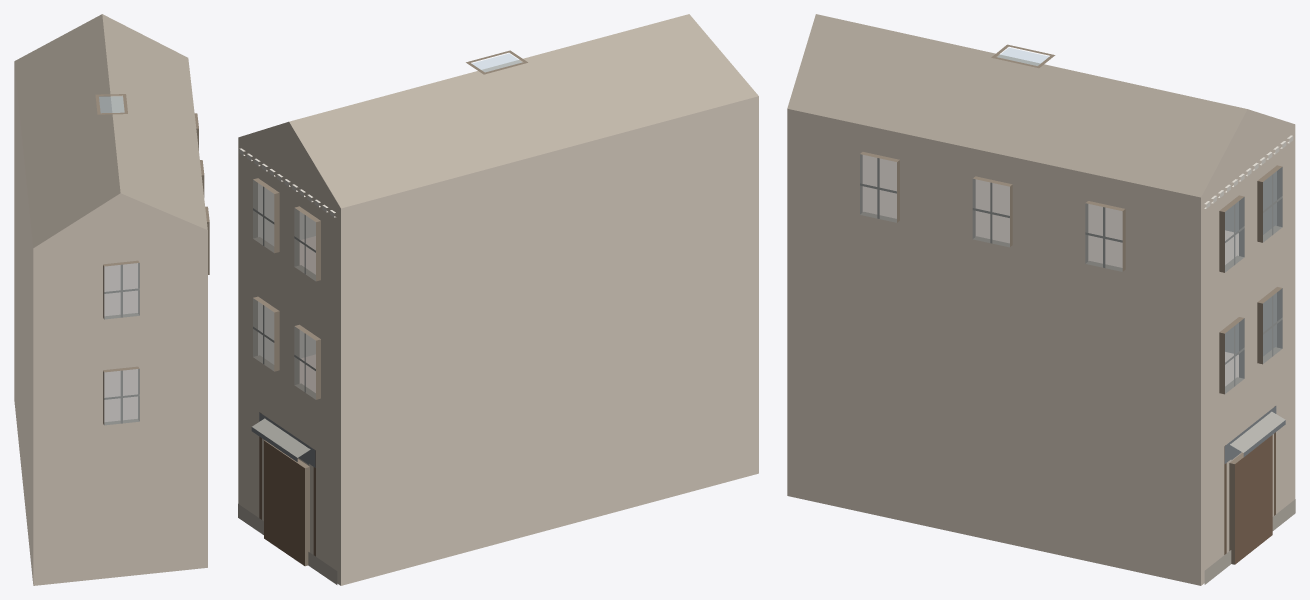
3 renders of one model, left to right at view 1: azimuth 30°, elevation 25°; view 2: azimuth 150°, elevation 25°; view 3: azimuth 270°, elevation 25°, orthographic. The views are drawn at different scales.
Parts seen in each view (by area): view 1: N-44; view 2: N-44; view 3: N-44.
Boxes of the visible parts, x1,y1,x2,y2 form: N-44: [14, 14, 209, 585]; N-44: [238, 14, 758, 585]; N-44: [787, 14, 1295, 585].
Bounding box in the file's own units: 9.81 × 11.68 × 12.14.
